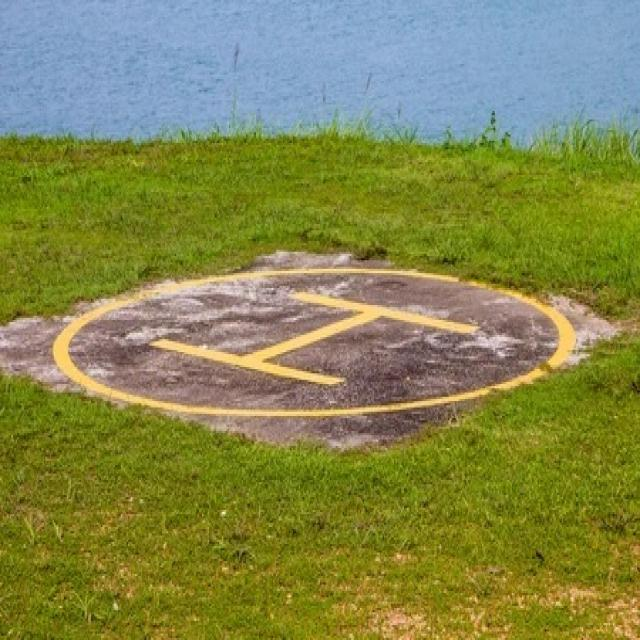helipad: (47, 260, 583, 420)
